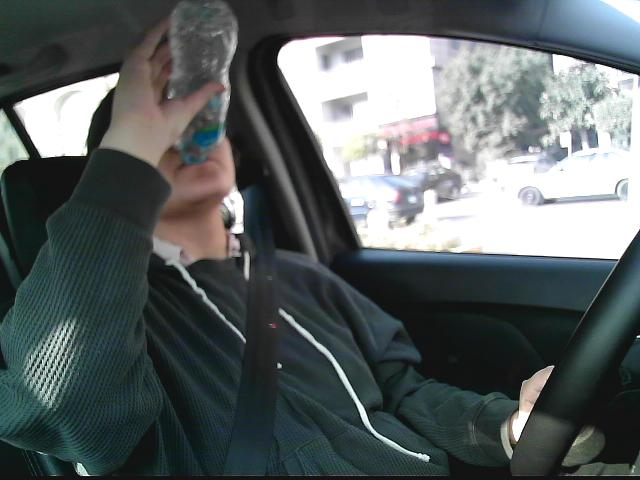Drinking: (161, 3, 238, 170)
